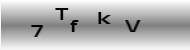7: (30, 23, 44, 39)
T: (53, 6, 69, 21)
V: (123, 18, 141, 33)
f: (69, 18, 80, 33)
k: (97, 11, 112, 26)
